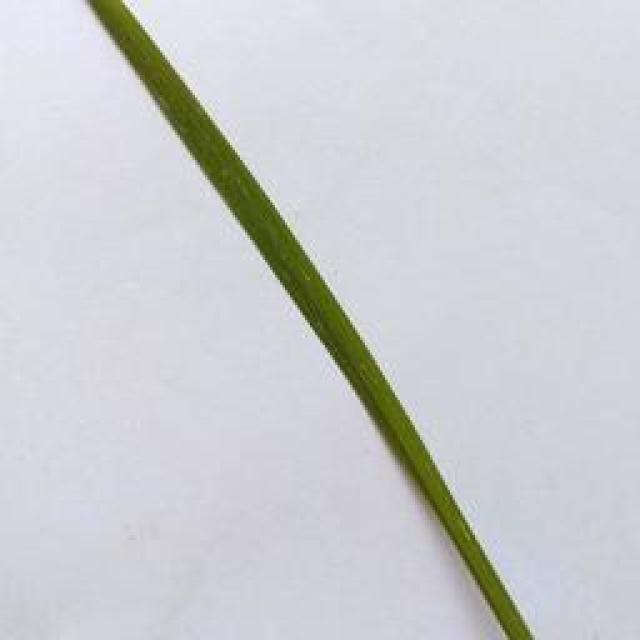Healthy-Plant: (78, 0, 540, 640)
